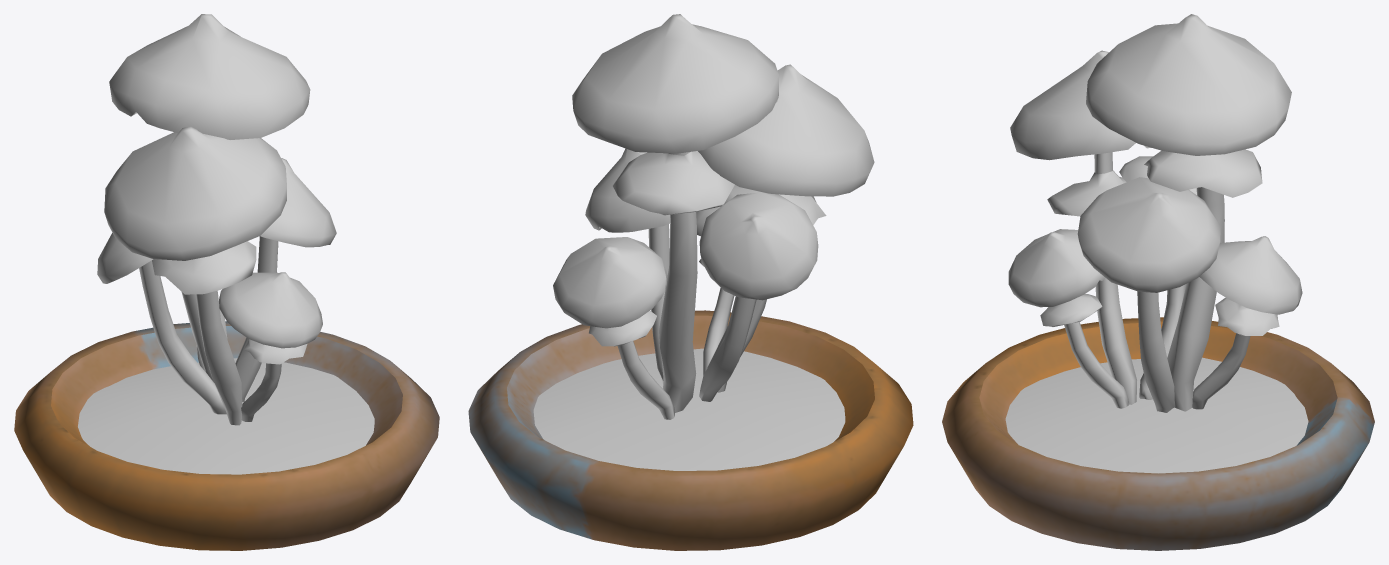
File: SM_Potion_Props_Terrarium_02_B.fbx
3 renders of one model, left to right at view 1: azimuth 30°, elevation 25°; view 2: azimuth 150°, elevation 25°; view 3: azimuth 270°, elevation 25°, orthographic. The views are drawn at different scales.
Visible parts, largest first — view 1: SM_Potion_Props_Terrarium_02_B_LOD0; view 2: SM_Potion_Props_Terrarium_02_B_LOD0; view 3: SM_Potion_Props_Terrarium_02_B_LOD0.
Part boxes in pixels (x1,y1,x2,y2): SM_Potion_Props_Terrarium_02_B_LOD0: [14, 14, 439, 550]; SM_Potion_Props_Terrarium_02_B_LOD0: [468, 14, 913, 550]; SM_Potion_Props_Terrarium_02_B_LOD0: [942, 14, 1374, 550].
Size of what is drawn, in the model's own units: 14.78 by 17.22 by 14.78.
